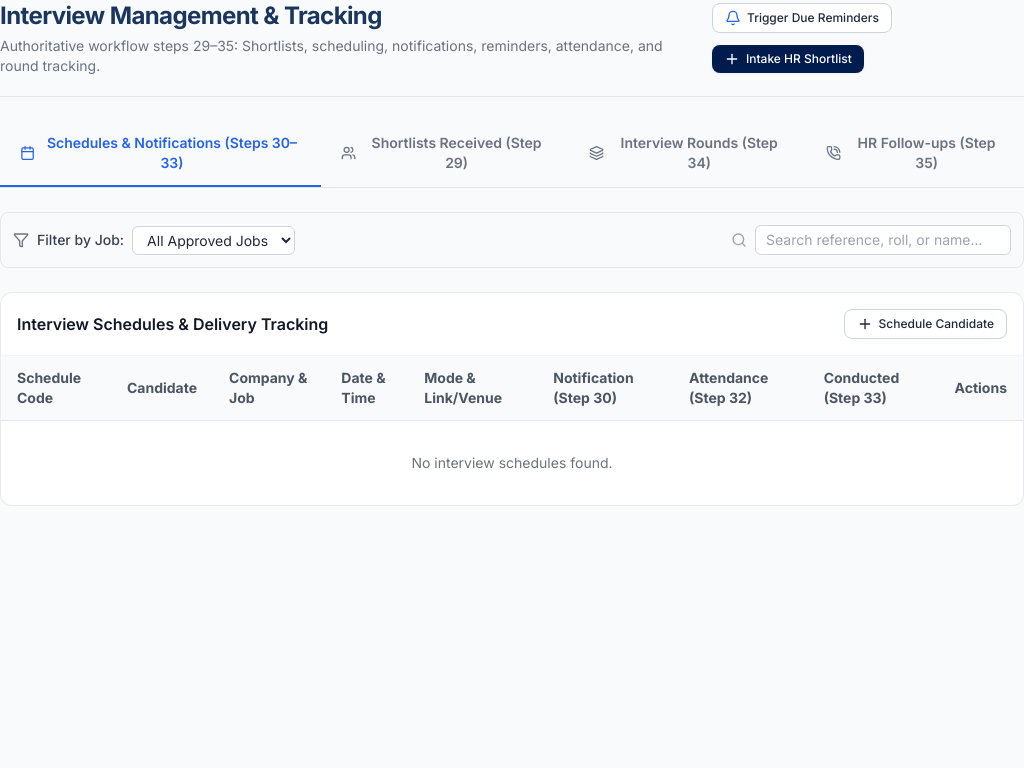
Frontend Interview Management & Tracking Suite (Phase 8 / Steps 29-35) › Step 35: displays HR follow-ups and allows recording corporate follow-up
Click the button with test id "tab-followups" at x=915, y=154, box [806,121,1023,187]
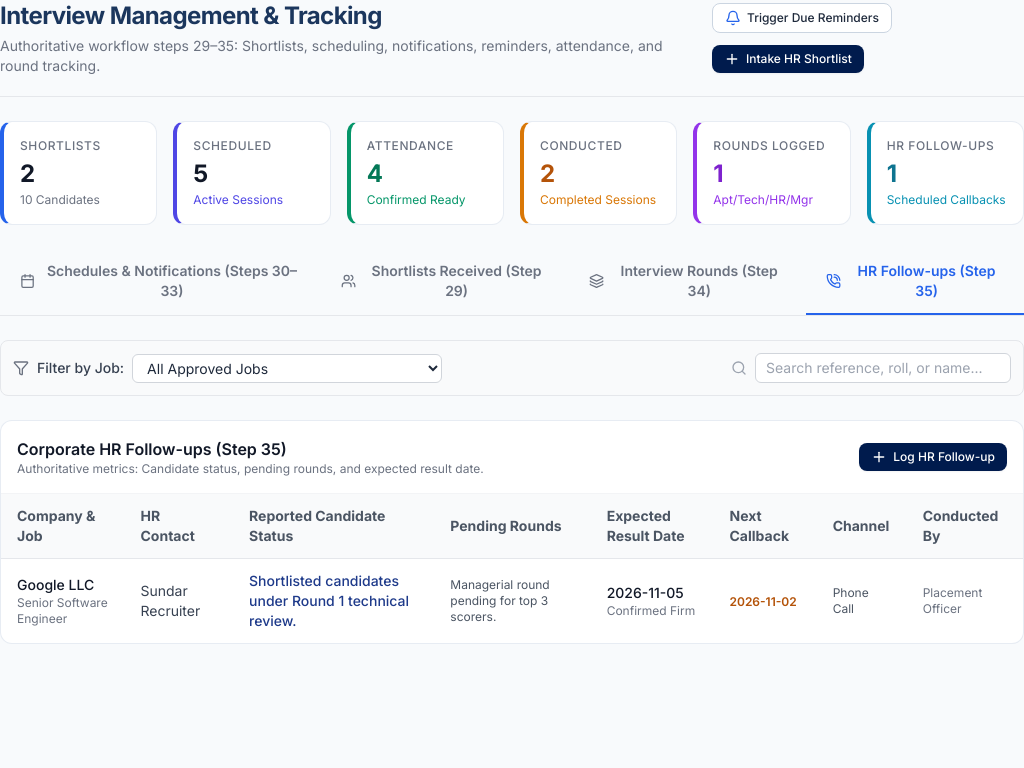
Expected: the text "Shortlisted candidates under Round 1 technical review." is shown, [233,558,434,643]
Expected: the text "Managerial round pending for top 3 scorers." is shown, [434,558,591,643]
Expected: the text "2026-11-05" is shown, [607,584,684,601]
Click the button with test id "log-followup-button" at x=933, y=457, box [859,443,1007,471]
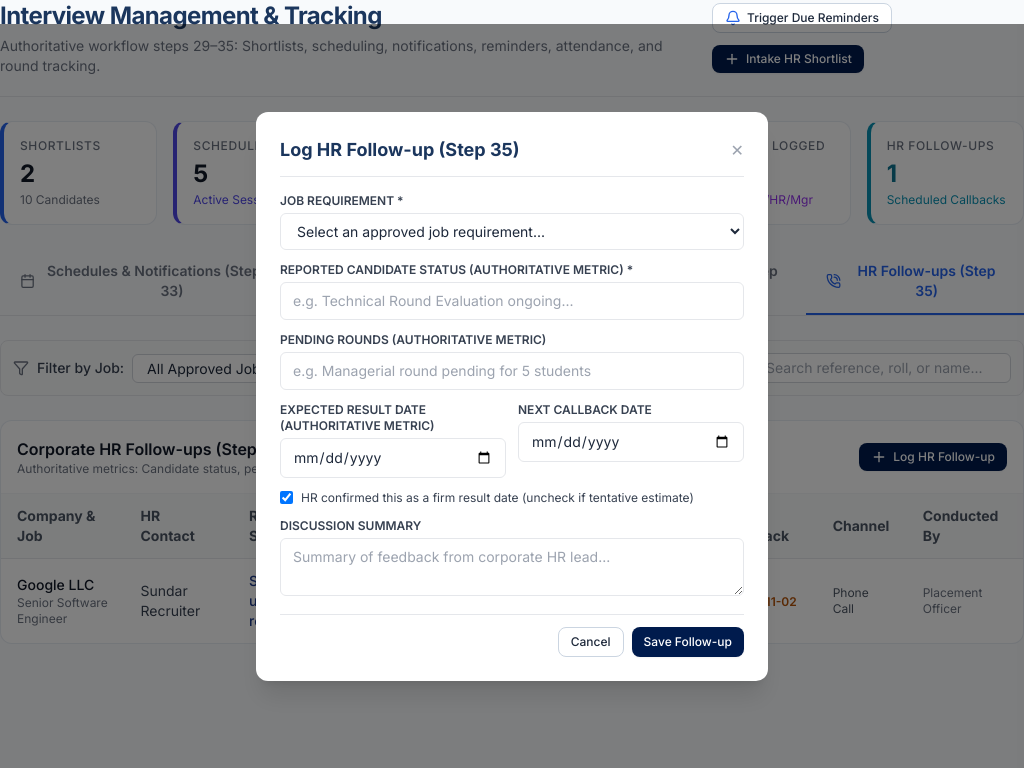
Expected: the heading "Log HR Follow-up (Step 35)" is shown, [280,136,520,164]
Expected: the field with test id "followup-candidate-status-input" is shown, [280,282,744,320]
